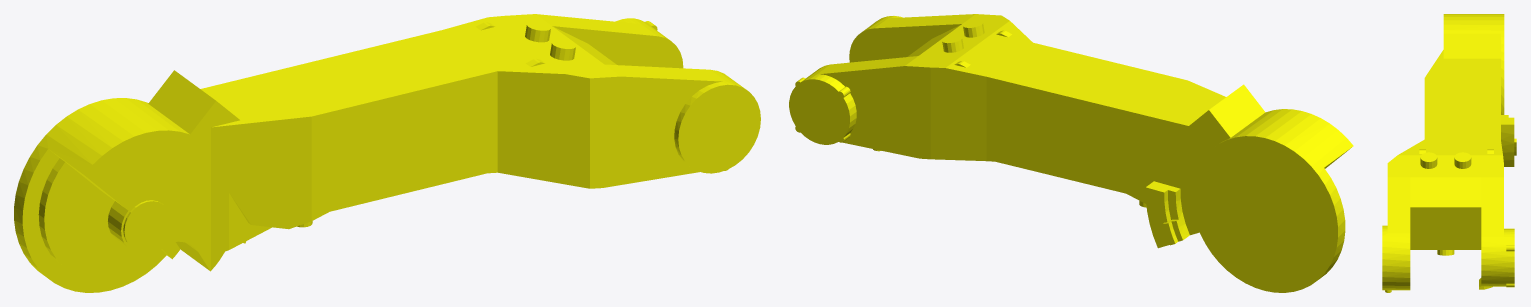
3 renders of one model, left to right at view 1: azimuth 30°, elevation 25°; view 2: azimuth 150°, elevation 25°; view 3: azimuth 270°, elevation 25°, orthographic. The views are drawn at different scales.
Parts seen in each view (by area): view 1: node; view 2: node; view 3: node.
Part boxes in pixels (x1,y1,x2,y2): node: (14,14,760,292); node: (789,14,1353,292); node: (1382,14,1516,292).
Size of the model in its own units: 1518 by 439 by 396.
